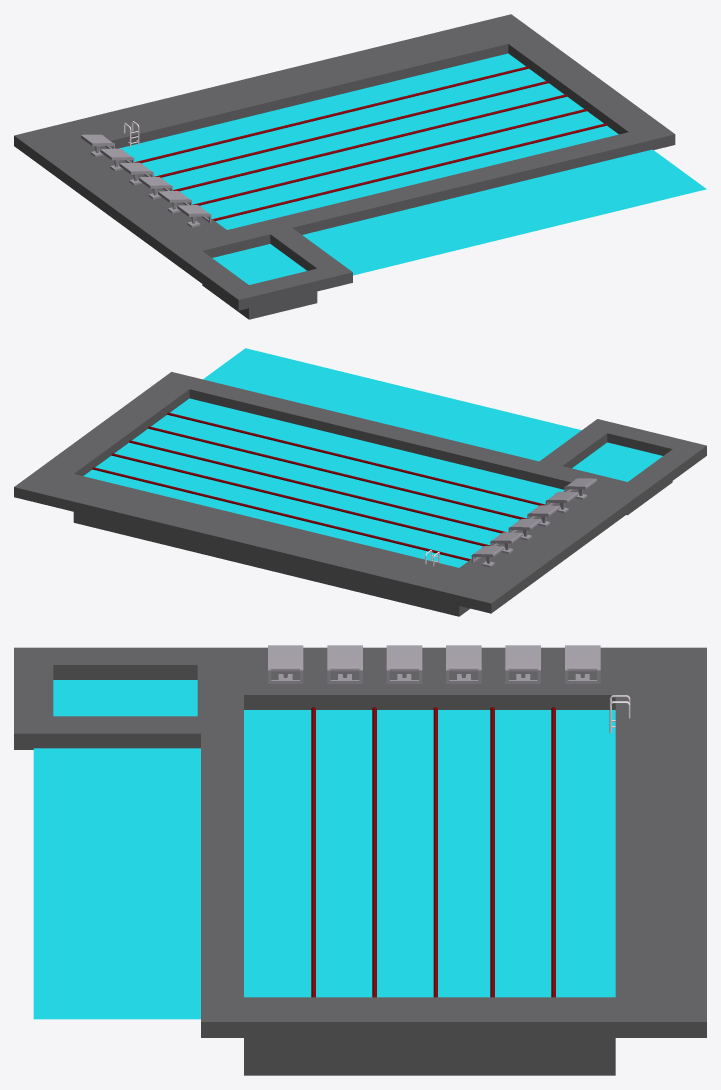
The model's file is Kolam Renang.fbx.
3 views of the same model, one above another, from view 1: azimuth 30°, elevation 25°; view 2: azimuth 150°, elevation 25°; view 3: azimuth 270°, elevation 25° (orthographic). The views are drawn at different scales.
Parts seen in each view (by area): view 1: Air kolam, Pinggiran kolam, Line kolam 5, Line kolam 1, Line kolam 3, Line Kolam 2, Line kolam 4; view 2: Air kolam, Pinggiran kolam, Line kolam 5, Line kolam 4, Line Kolam 2, Line kolam 1, Line kolam 3; view 3: Air kolam, Pinggiran kolam, Line kolam 1, Line Kolam 2, Line kolam 3, Line kolam 4, Line kolam 5, Loncatan 4, Loncatan 1, Loncatan 2, Loncatan 6, Loncatan 3 (+1 smaller).
Boxes of the visible parts, x1=… form: Air kolam: x1=119, y1=53, x2=706, y2=284; Pinggiran kolam: x1=14, y1=14, x2=675, y2=319; Line kolam 5: x1=212, y1=123, x2=606, y2=221; Line kolam 1: x1=134, y1=66, x2=528, y2=163; Line kolam 3: x1=173, y1=94, x2=567, y2=191; Line Kolam 2: x1=154, y1=80, x2=548, y2=177; Line kolam 4: x1=193, y1=109, x2=587, y2=205; Air kolam: x1=83, y1=348, x2=662, y2=567; Pinggiran kolam: x1=14, y1=372, x2=706, y2=616; Line kolam 5: x1=167, y1=412, x2=545, y2=505; Line kolam 4: x1=148, y1=426, x2=526, y2=519; Line Kolam 2: x1=111, y1=453, x2=489, y2=546; Line kolam 1: x1=92, y1=467, x2=470, y2=561; Line kolam 3: x1=129, y1=440, x2=506, y2=533; Air kolam: x1=33, y1=680, x2=615, y2=1019; Pinggiran kolam: x1=14, y1=647, x2=706, y2=1075; Line kolam 1: x1=551, y1=707, x2=555, y2=997; Line Kolam 2: x1=490, y1=707, x2=494, y2=997; Line kolam 3: x1=433, y1=707, x2=437, y2=997; Line kolam 4: x1=372, y1=707, x2=376, y2=997; Line kolam 5: x1=311, y1=707, x2=315, y2=997; Loncatan 4: x1=386, y1=645, x2=422, y2=683; Loncatan 1: x1=565, y1=645, x2=600, y2=683; Loncatan 2: x1=505, y1=645, x2=540, y2=683; Loncatan 6: x1=268, y1=645, x2=303, y2=683; Loncatan 3: x1=446, y1=645, x2=481, y2=683.
Size of the model in its own units: 3079 by 407 by 2411.
